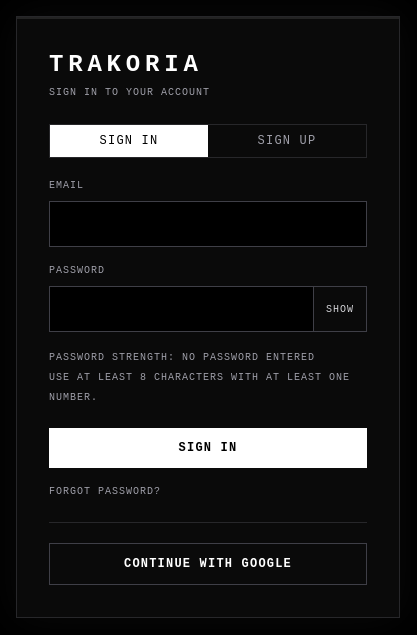
Test: AuthPanel › starts password recovery with the configured recovery redirect
Click the button "Forgot Password?".
click(105, 492)  # box [49,484,161,499]
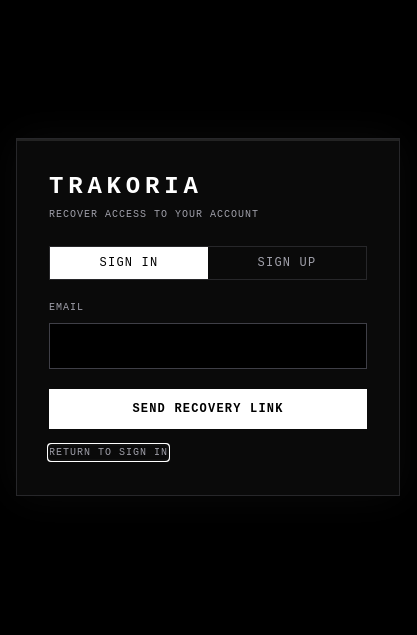
Type "recover@example.com" into the field labelled "Email".
click(208, 346); type("recover@example.com")  # box [49,323,367,369]
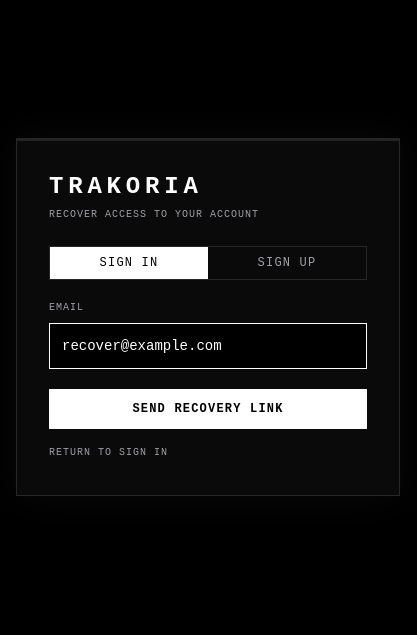
Click the button "Send Recovery Link".
click(208, 409)  # box [49,389,367,429]
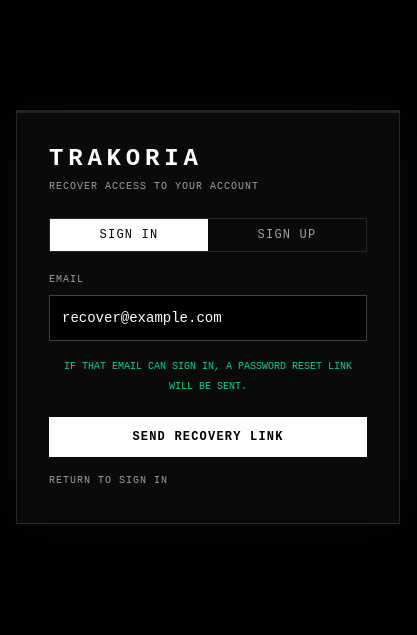
Expected: the message shows "password reset link", [64,361,352,392]
